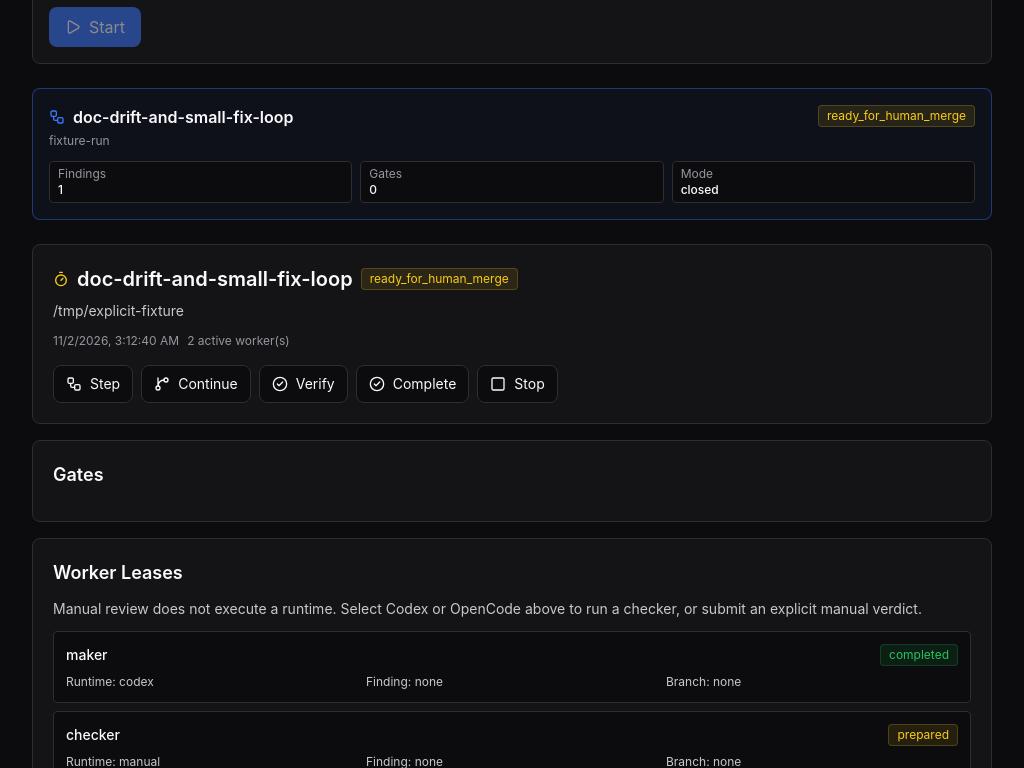
does not complete a loop when the human cancels confirmation
(page scrolled)
Click the button "Complete". click: (412, 384)
box: top-left (356, 365), bottom-right (469, 403)
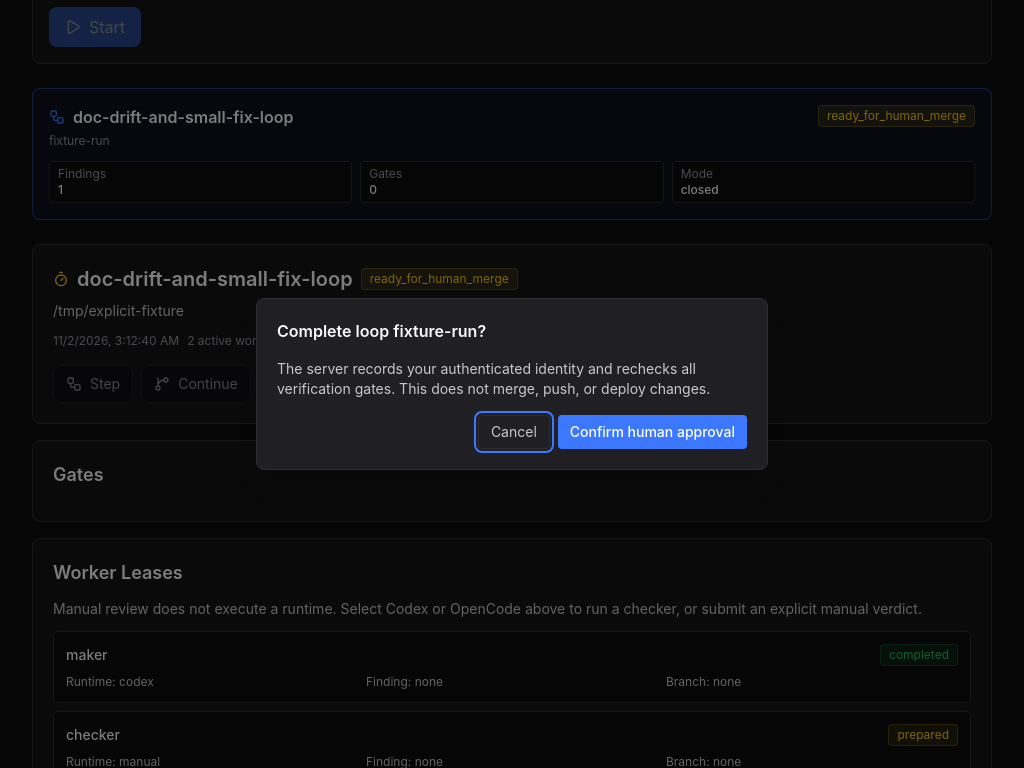
Now the dialog shows "does not merge, push, or deploy", box top-left (277, 360), bottom-right (710, 397)
Click the button "Cancel". click: (514, 432)
box: top-left (478, 415), bottom-right (550, 449)
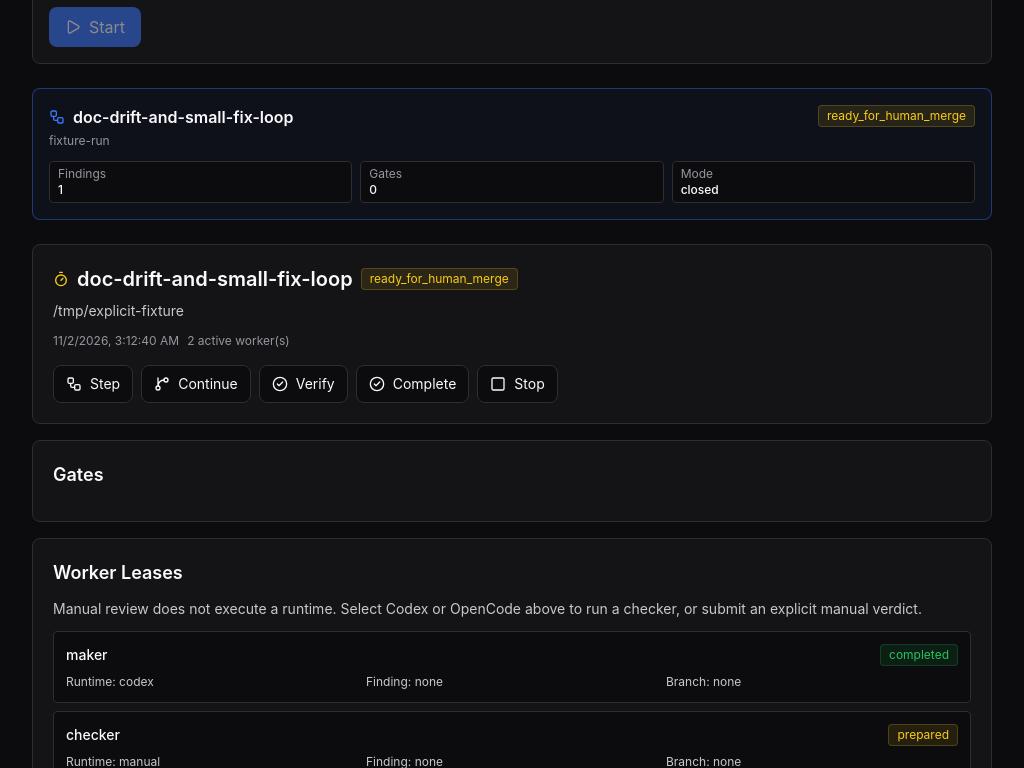
Now the dialog is gone
